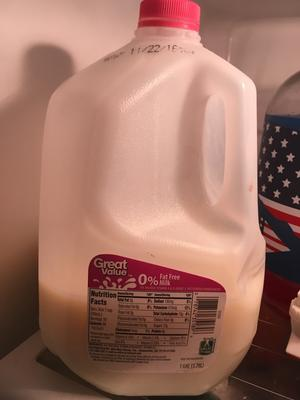milk: (44, 4, 262, 398)
